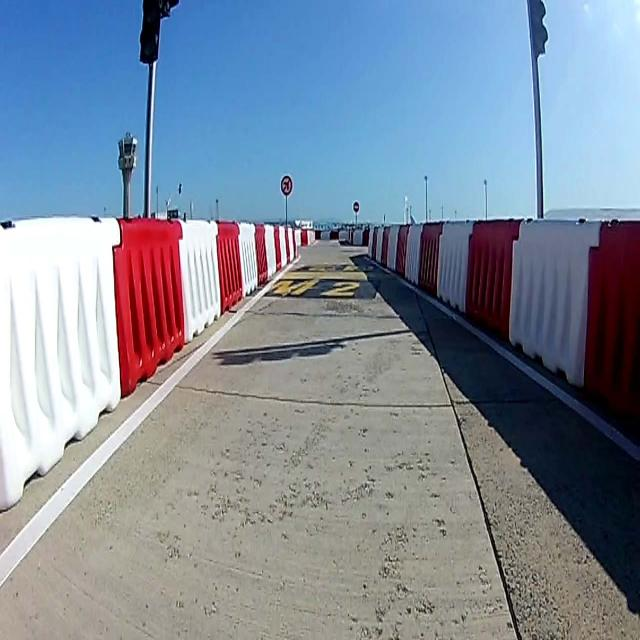soladonulmez: (280, 175, 294, 197)
